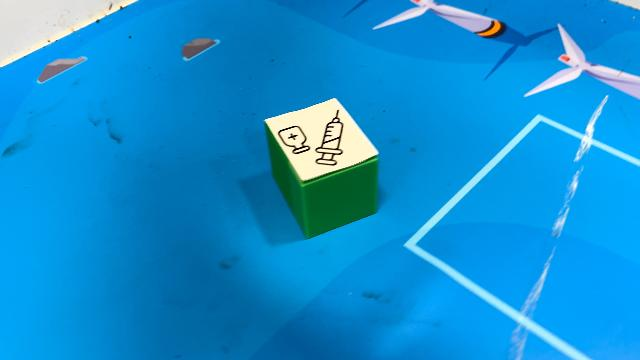syringe: (265, 100, 381, 240)
